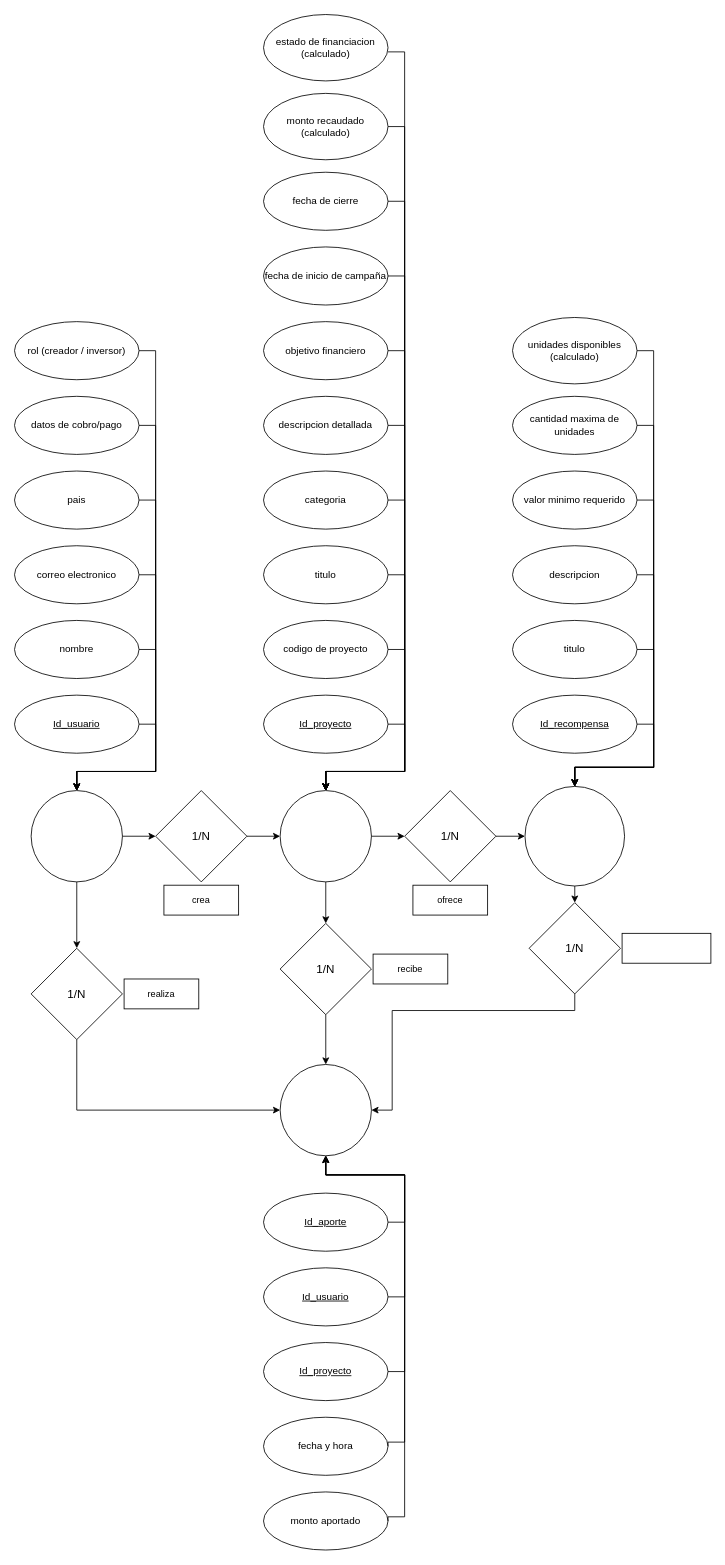
Some shapes in this 725 by 1565 pixel diagram are drawn without their labels. The shapes that lost their labels are listed below. From the top down, each one's box as (x1, y1, x2, y2) in pixels, then its label:
(30, 790, 122, 882): USUARIO
(279, 790, 371, 882): PROYECTO
(524, 786, 625, 886): RECOMPENSA
(621, 933, 711, 963): es elegida en
(279, 1064, 371, 1156): APORTE
